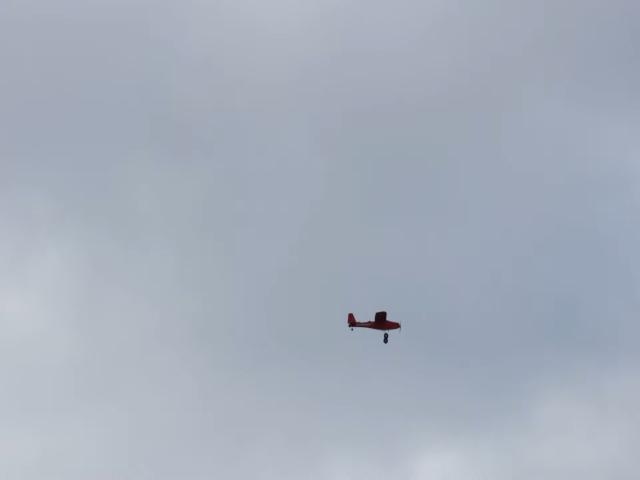plane: (347, 311, 403, 341)
